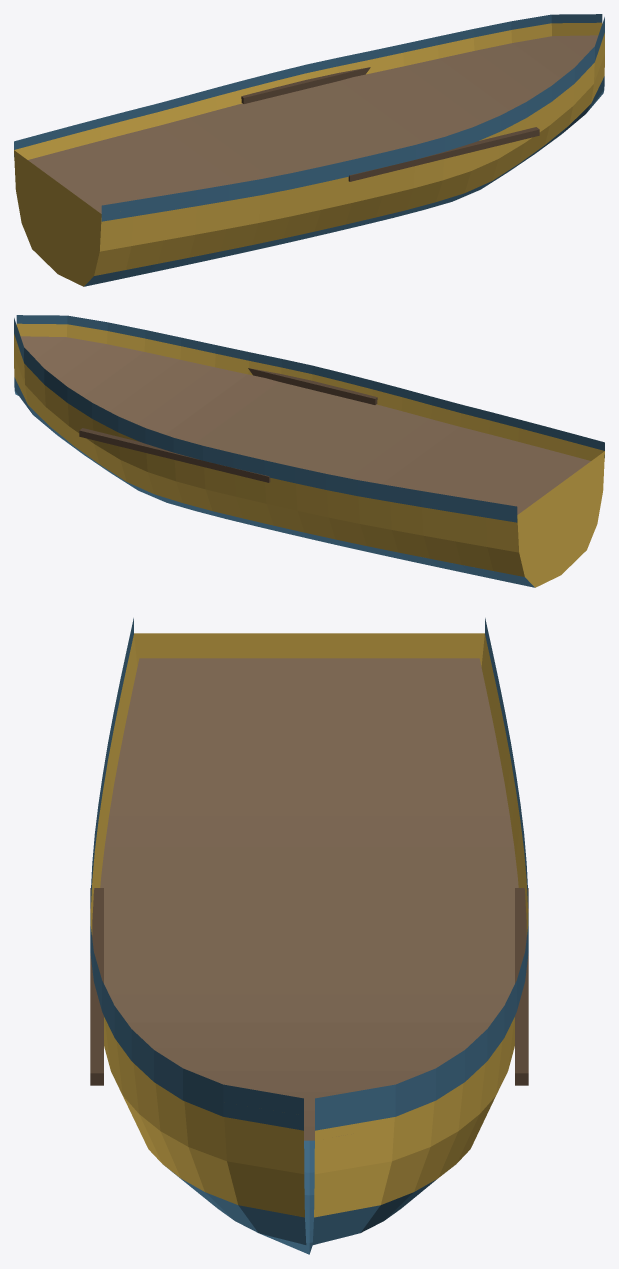
File: sandal-sari.glb
3 renders of one model, top to bottom at view 1: azimuth 30°, elevation 25°; view 2: azimuth 150°, elevation 25°; view 3: azimuth 270°, elevation 25°, orthographic. The views are drawn at different scales.
Visible parts, largest first — view 1: ahsap, tekne_sari, tekne_mavi, ahsap_koyu; view 2: ahsap, tekne_sari, tekne_mavi, ahsap_koyu; view 3: ahsap, tekne_sari, tekne_mavi, ahsap_koyu.
Part boxes in pixels (<box>): ahsap: <box>28,35,598,213</box>; tekne_sari: <box>14,22,604,286</box>; tekne_mavi: <box>14,14,604,286</box>; ahsap_koyu: <box>241,67,539,181</box>; ahsap: <box>20,336,590,514</box>; tekne_sari: <box>14,323,604,587</box>; tekne_mavi: <box>14,315,604,587</box>; ahsap_koyu: <box>79,368,377,482</box>; ahsap: <box>100,658,518,1140</box>; tekne_sari: <box>90,633,528,1217</box>; tekne_mavi: <box>90,618,528,1254</box>; ahsap_koyu: <box>90,888,528,1085</box>.
Bounding box in the file's own units: 4.6 × 1.01 × 1.6.
